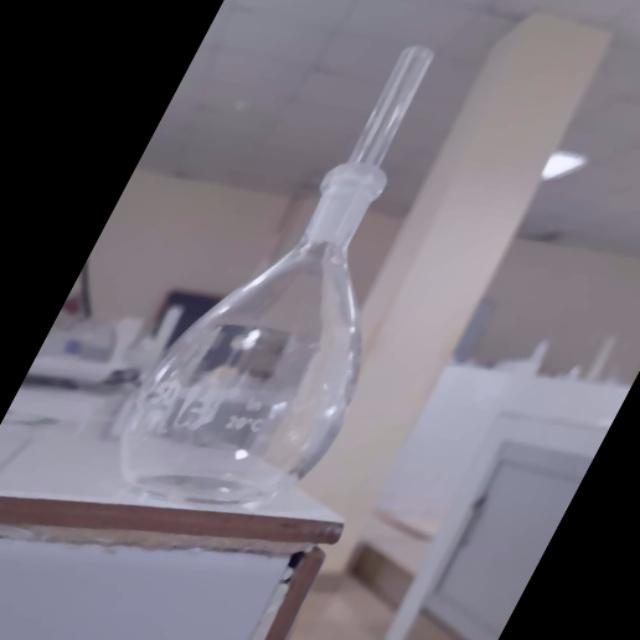Density Bottle for Liquids: (54, 11, 556, 532)
